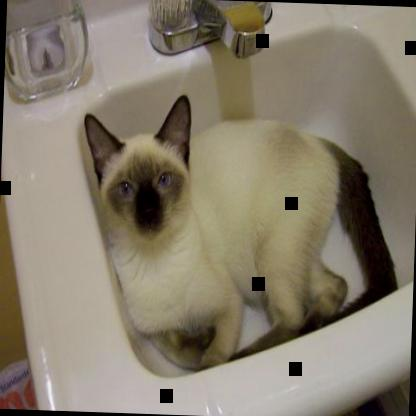cat: (75, 89, 405, 373)
